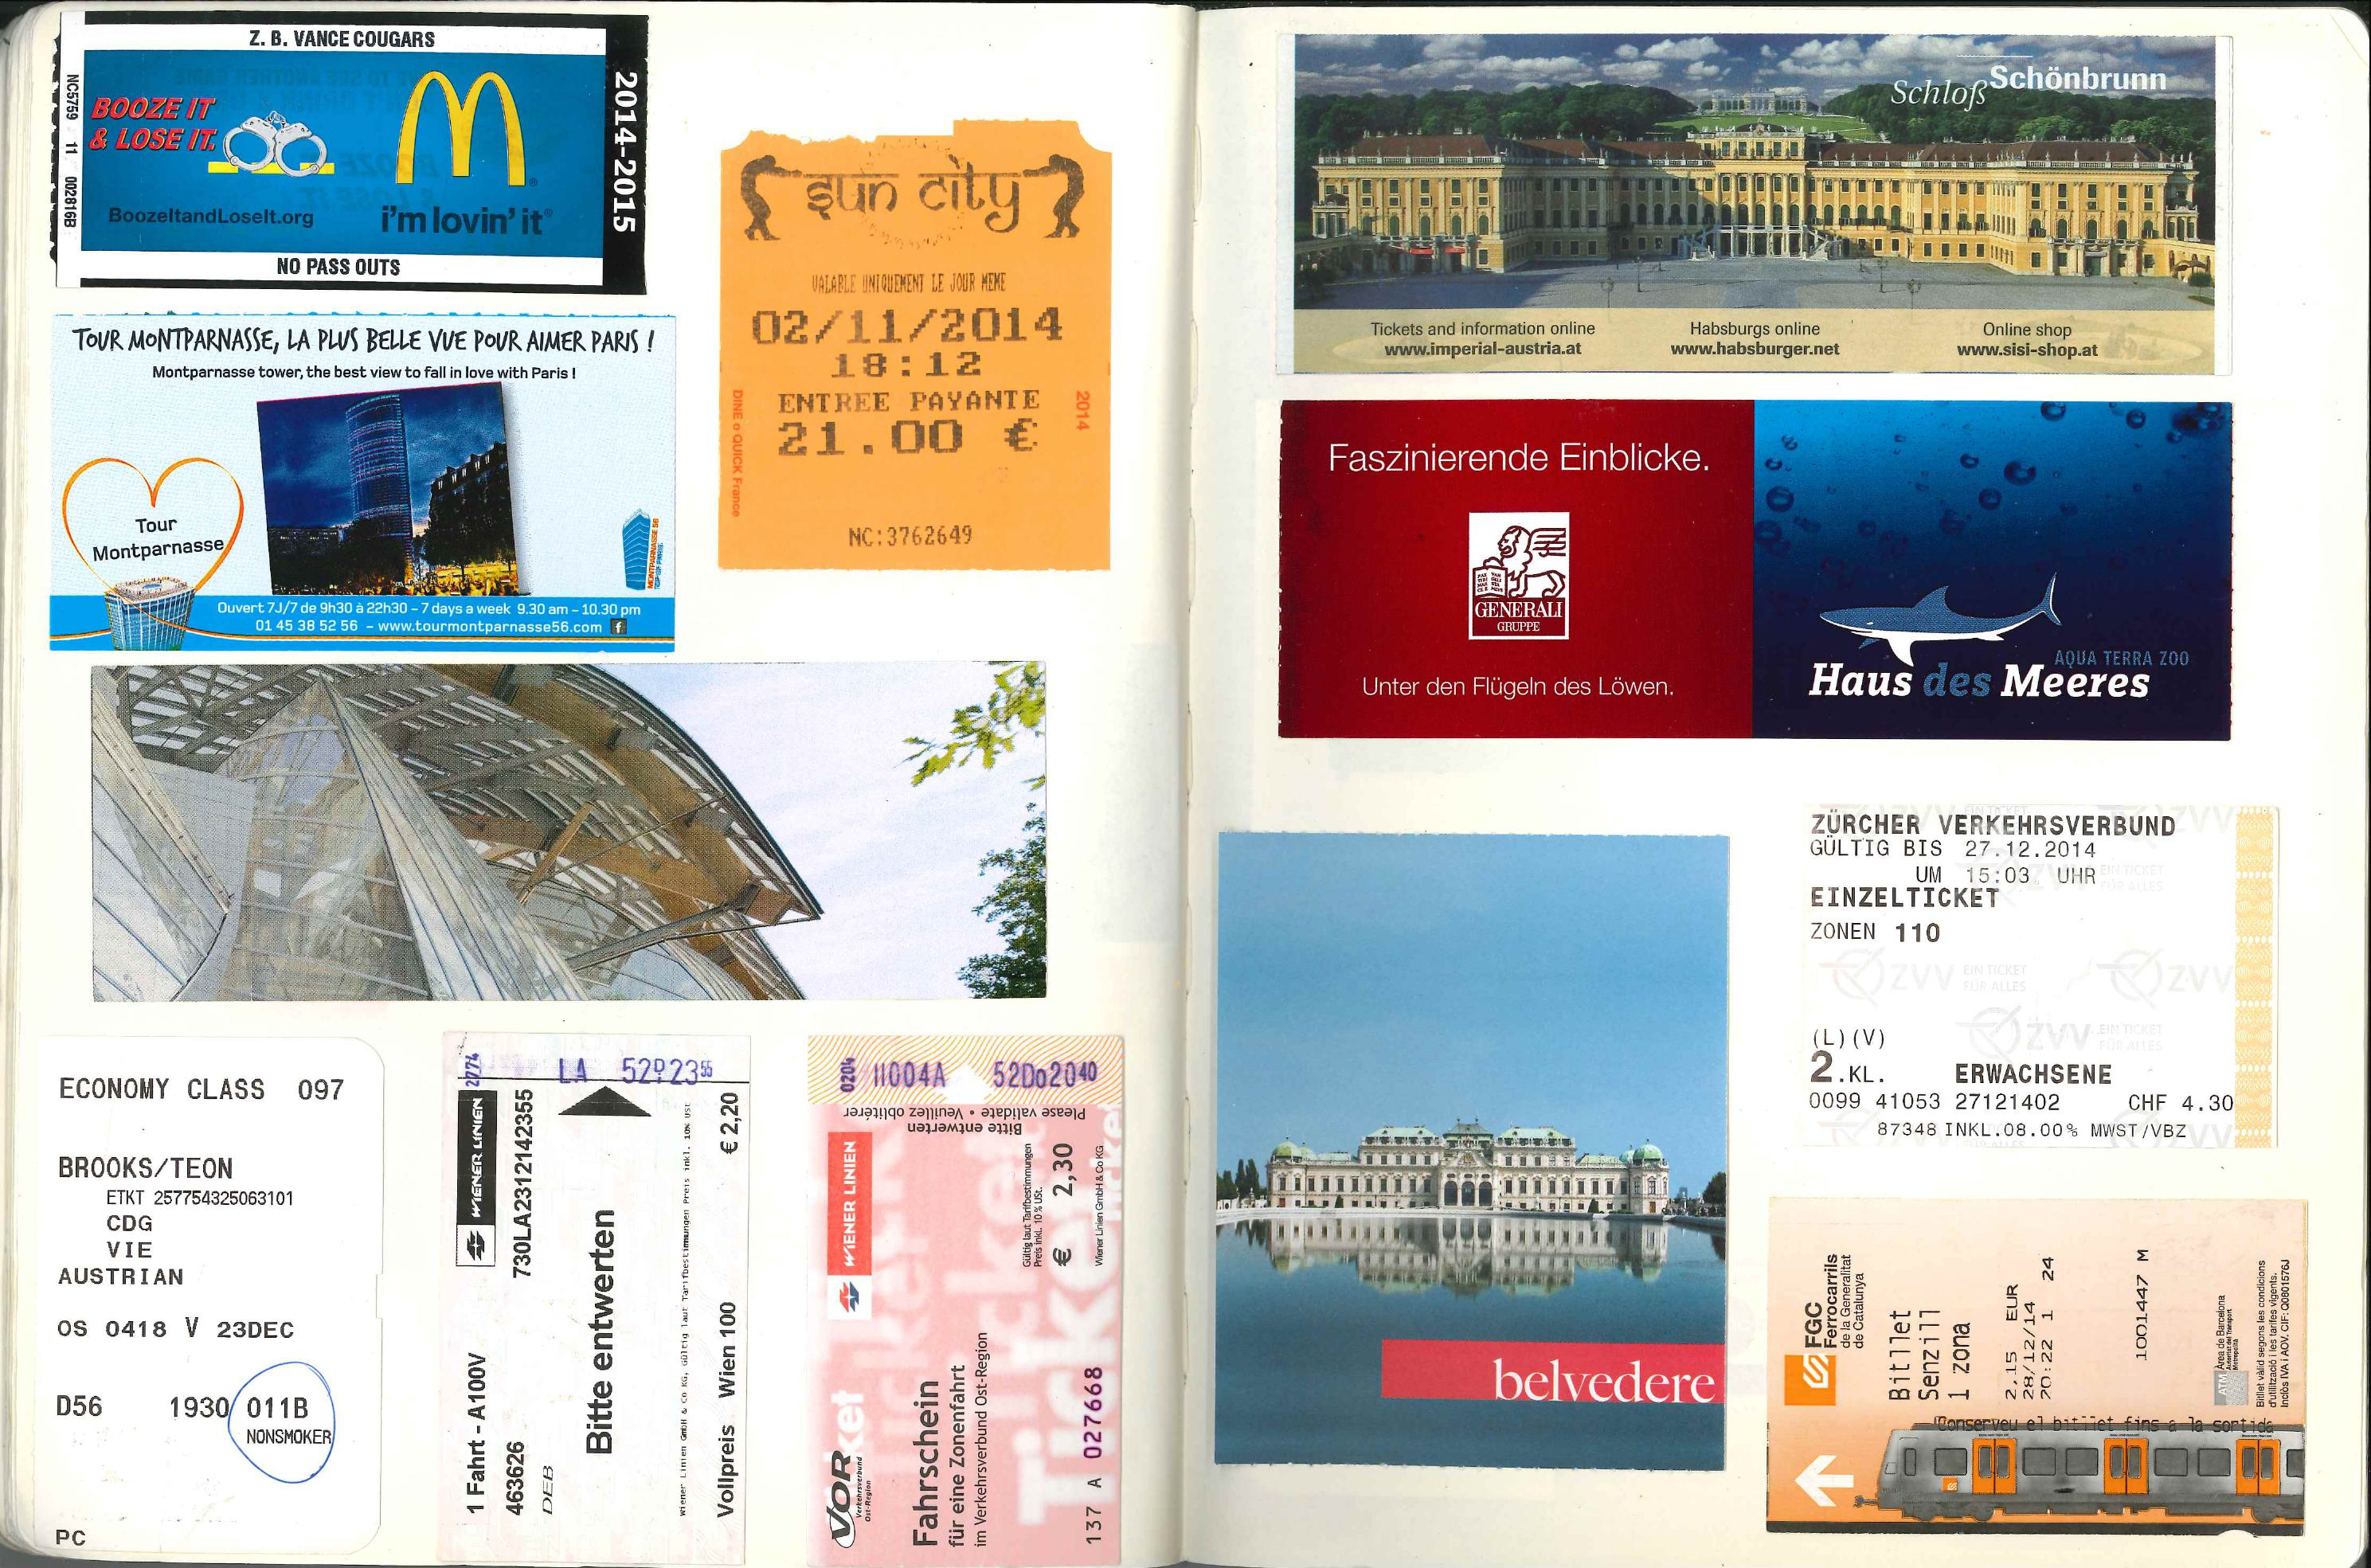stub: (1275, 397, 2240, 748), (1275, 35, 2240, 382), (1215, 832, 1733, 1469), (90, 661, 1055, 1003), (35, 307, 679, 655), (6, 1041, 385, 1559), (1765, 1191, 2316, 1542), (37, 0, 652, 313), (713, 119, 1113, 568), (1774, 803, 2290, 1148), (806, 1038, 1125, 1565), (438, 1029, 748, 1565)
